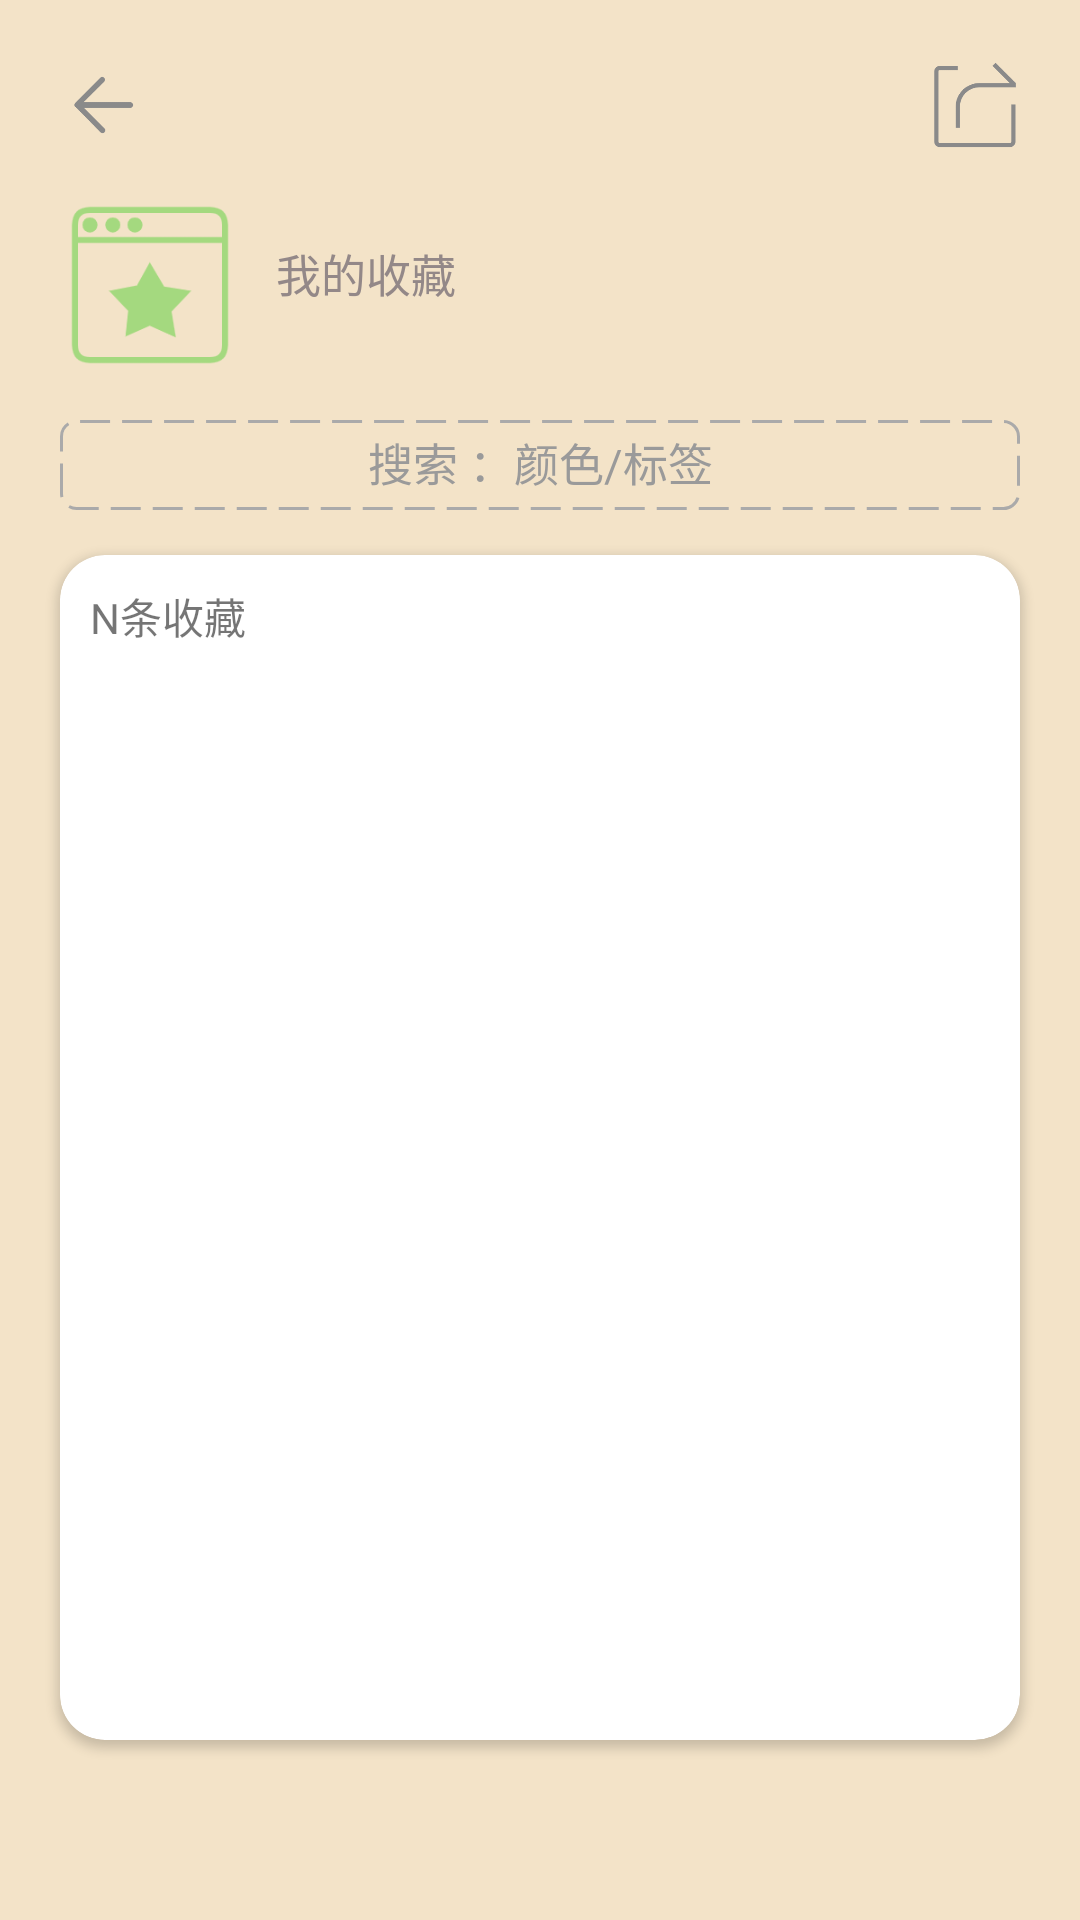

Icon bounding boxes for this 1080*1920 phone screenshot, format (x1, y1, x2, y2):
back: (74, 77, 133, 133)
favourite page: (72, 207, 228, 363)
share: (934, 63, 1016, 147)
